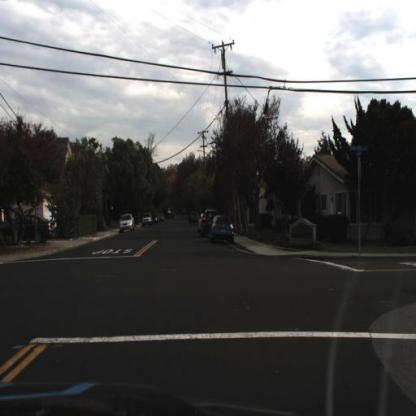car: (2, 212, 55, 247), (208, 211, 238, 252), (209, 215, 234, 244), (200, 208, 220, 241), (198, 211, 210, 240), (120, 213, 136, 233), (139, 207, 155, 227)
